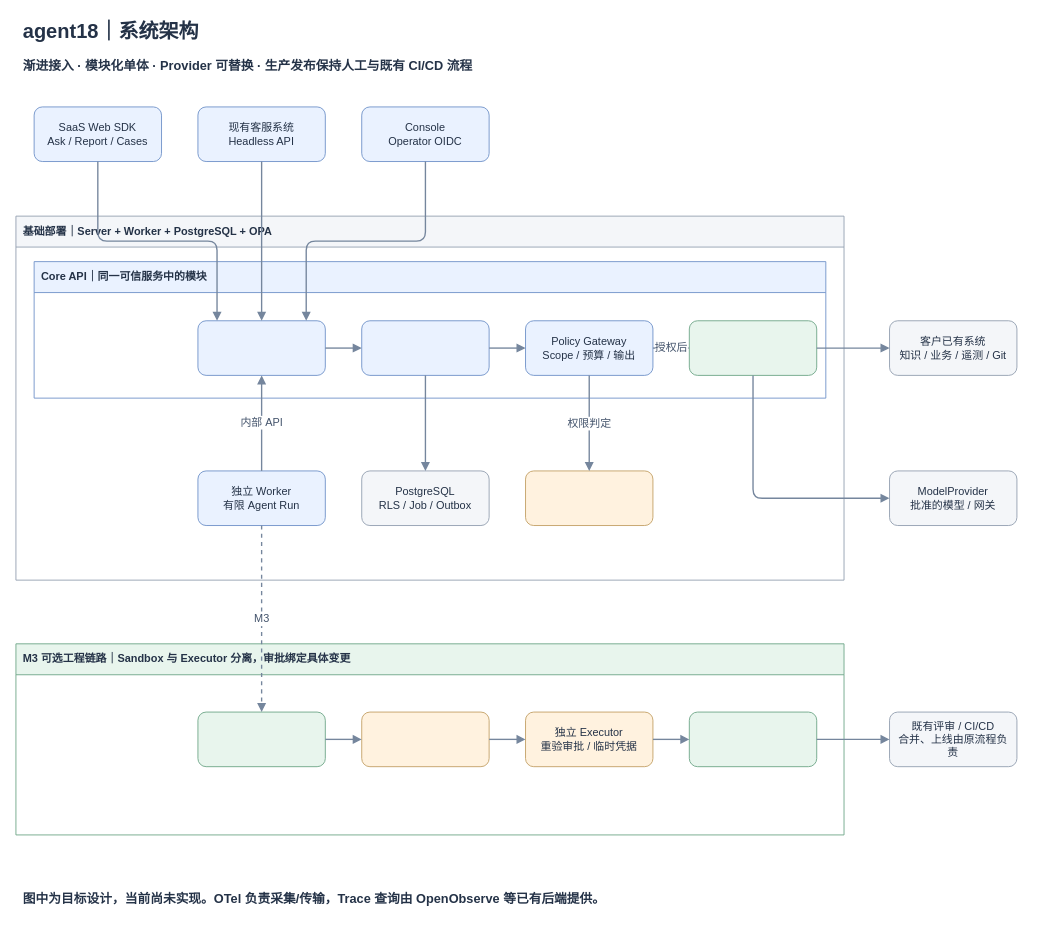
Some shapes in this 1051 by 932 pixel diagram are drawn without their labels. The centre of each missing label's shape, as x and y in pixels:
"Case / Context Evidence / Audit" goes at point 425,347.
"GitHub PR 幂等发布 / 结果核对" goes at point 752,739.
"OPA 版本化 Rego" goes at point 589,498.
"PR Proposal Diff / Tests / 人工审批" goes at point 425,739.
"Provider Adapters API / SDK / MCP" goes at point 752,347.
"临时 Sandbox OpenHands / Patch / Test" goes at point 261,739.
"认证 / Support HTTP + OpenAPI" goes at point 261,347.
